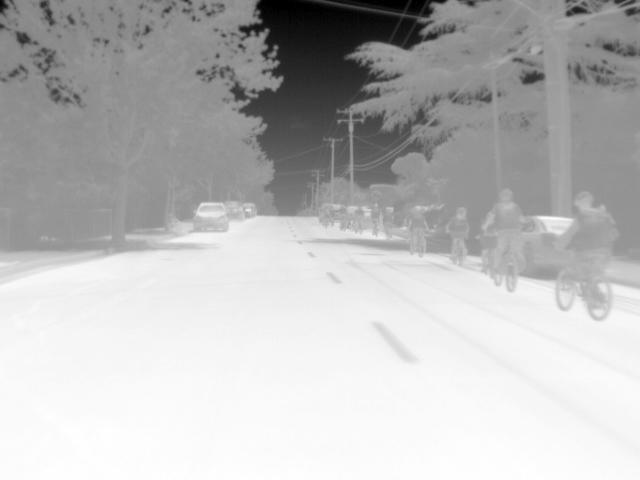car: (522, 214, 576, 276), (190, 200, 229, 230), (223, 201, 246, 221), (243, 202, 257, 218)
person: (558, 192, 616, 310), (482, 188, 527, 278), (446, 206, 474, 261), (404, 209, 428, 256), (367, 200, 381, 232), (352, 204, 368, 230), (337, 203, 349, 225), (325, 203, 337, 224)
